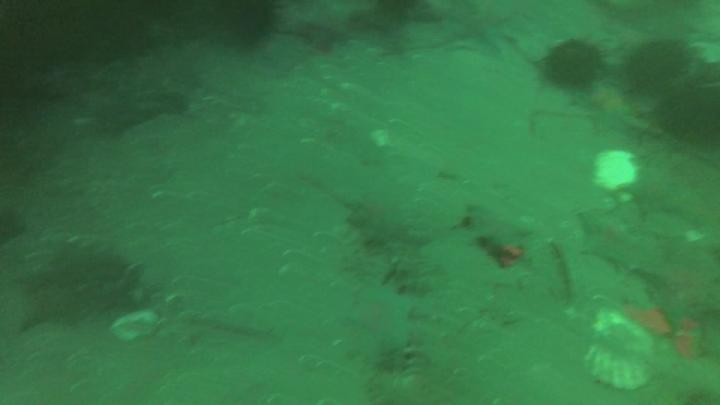echinus: (658, 86, 720, 146), (625, 40, 686, 93), (219, 1, 279, 52), (547, 40, 599, 92)
scallop: (583, 309, 654, 390), (109, 312, 165, 342)
